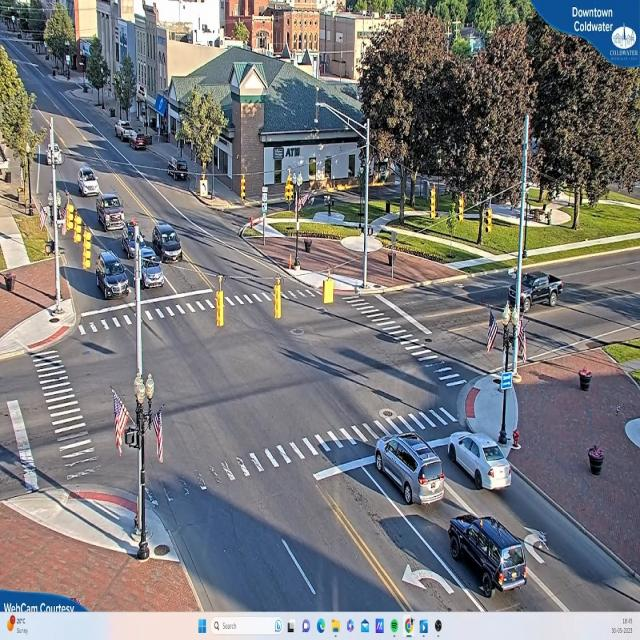car: (449, 515, 532, 595), (374, 432, 445, 506), (444, 430, 512, 490), (510, 272, 564, 307), (97, 257, 133, 300), (97, 193, 126, 232), (152, 225, 182, 262), (79, 166, 102, 196), (117, 122, 136, 143), (131, 134, 149, 150)
